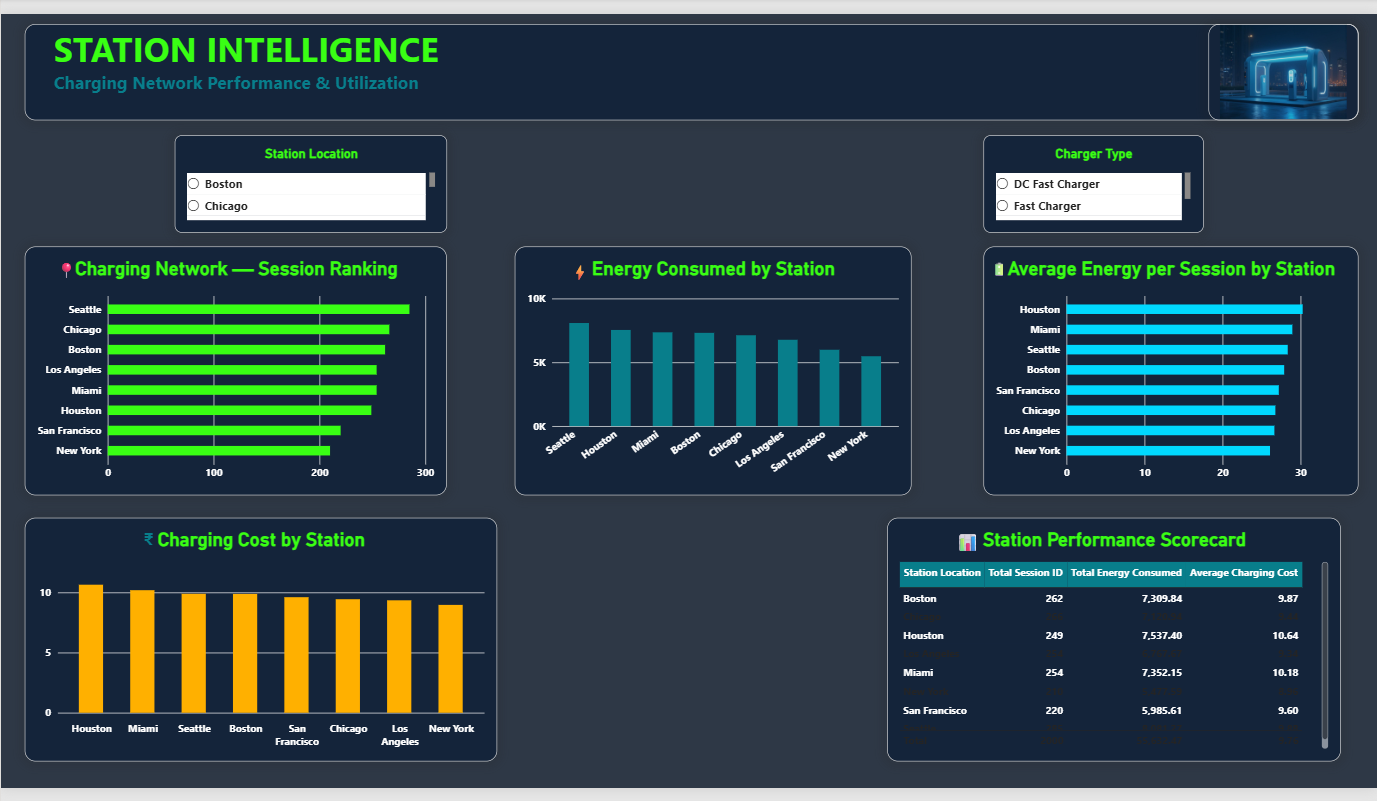

What the dashboard file says about the page in this screenshot:
{"tool":"powerbi","page":{"name":"Station Intelligence","canvas":[1920,1080],"ordinal":1},"visuals":[{"type":"clusteredBarChart","title":"Charging Network — Session Ranking","fields":{"Category":["EV_Data.Station Location"],"Y":["CountNonNull(EV_Data.Session ID)"]},"box":[34,324.8,589.1,347.4],"z":0},{"type":"clusteredColumnChart","title":"Energy Consumed by Station","fields":{"Category":["EV_Data.Station Location"],"Y":["Sum(EV_Data.Energy Consumed (kWh))"]},"box":[717.5,324.8,553.3,347.4],"z":1000},{"type":"clusteredBarChart","title":"Average Energy per Session by Station","fields":{"Category":["EV_Data.Station Location"],"Y":["Avg(EV_Data.Energy Consumed (kWh))"]},"box":[1370.9,324.8,523.1,347.4],"z":2000},{"type":"columnChart","title":"Charging Cost by Station","fields":{"Category":["EV_Data.Station Location"],"Y":["Avg(EV_Data.Cost of Charging (â‚¹/$))"]},"box":[34,702.4,659,339.9],"z":3000},{"type":"tableEx","title":"Station Performance Scorecard","fields":{"Values":["EV_Data.Station Location","EV_Data.Session ID","Sum(EV_Data.Energy Consumed (kWh))","Avg(EV_Data.Cost of Charging (â‚¹/$))"]},"box":[1236.8,702.4,632.6,339.9],"z":4000},{"type":"textbox","box":[33.1,14,1861.1,134.3],"z":5000},{"type":"listSlicer","title":"Charger Type","fields":{"Values":["EV_Data.Station Type"]},"box":[1370.9,169.2,307,136],"z":6000},{"type":"listSlicer","title":"Station Location","fields":{"Values":["EV_Data.Station Location"]},"box":[242.4,169.2,380.2,136],"z":7000},{"type":"textbox","box":[76.7,324.4,165.7,90.7],"z":9000},{"type":"textbox","box":[793.6,345.3,476.2,326.2],"z":10000},{"type":"textbox","box":[1295.9,324.4,212.8,240.7],"z":11000},{"type":"textbox","box":[198.8,715.1,129.1,327.9],"z":12000},{"type":"textbox","box":[1332.6,702.9,38.4,303.5],"z":13000},{"type":"image","box":[1684.9,14,209.3,134.3],"z":13001}]}

Visuals, with their boxes on the page's 1920x1080 design canvas (x1, y1, x2, y2). These are canvas units, not pixel positions in the 1377x801 screenshot, which may show the page scaled, cropped or inside an application window:
"Charging Network — Session Ranking" clusteredBarChart: bbox=[34, 325, 623, 672]
"Energy Consumed by Station" clusteredColumnChart: bbox=[718, 325, 1271, 672]
"Average Energy per Session by Station" clusteredBarChart: bbox=[1371, 325, 1894, 672]
"Charging Cost by Station" columnChart: bbox=[34, 702, 693, 1042]
"Station Performance Scorecard" tableEx: bbox=[1237, 702, 1869, 1042]
textbox: bbox=[33, 14, 1894, 148]
"Charger Type" listSlicer: bbox=[1371, 169, 1678, 305]
"Station Location" listSlicer: bbox=[242, 169, 623, 305]
textbox: bbox=[77, 324, 242, 415]
textbox: bbox=[794, 345, 1270, 672]
textbox: bbox=[1296, 324, 1509, 565]
textbox: bbox=[199, 715, 328, 1043]
textbox: bbox=[1333, 703, 1371, 1006]
image: bbox=[1685, 14, 1894, 148]
